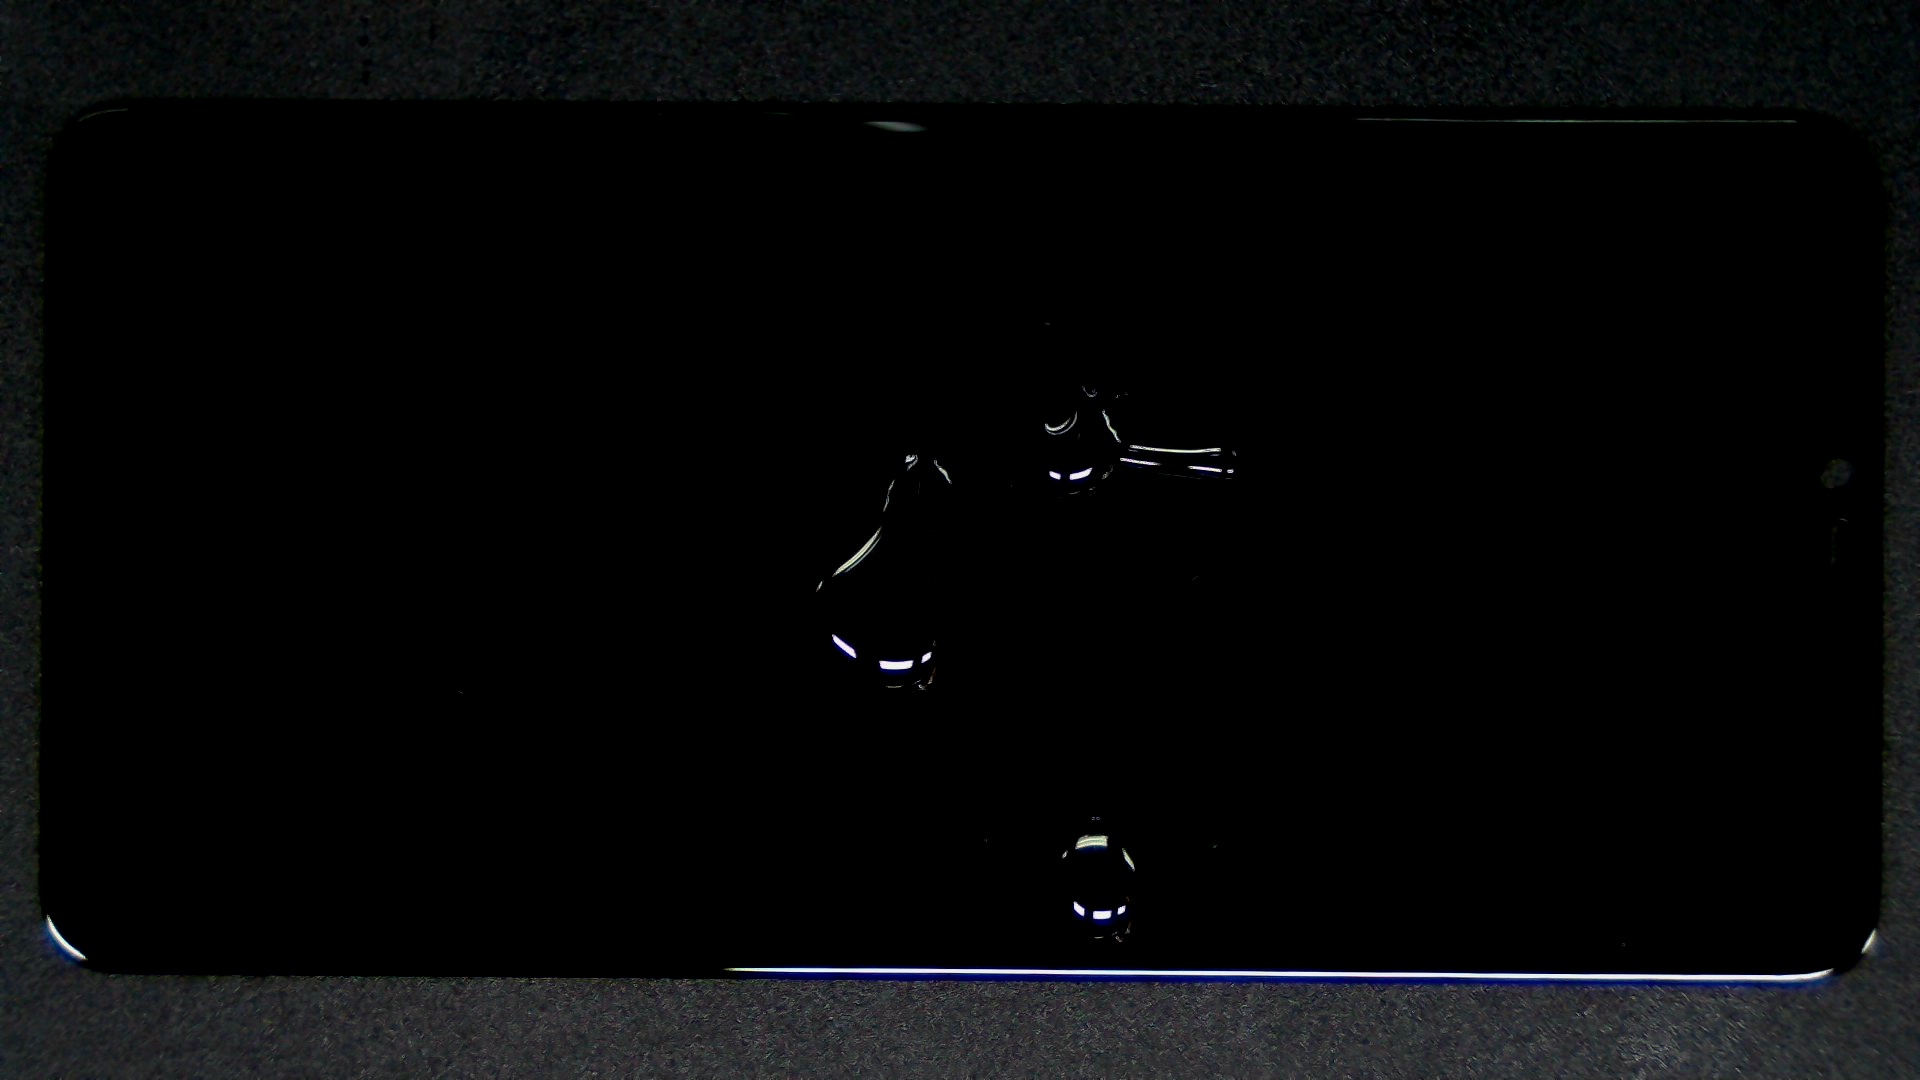oil: (547, 406, 1636, 1080), (541, 190, 1618, 571), (465, 216, 1390, 655)
